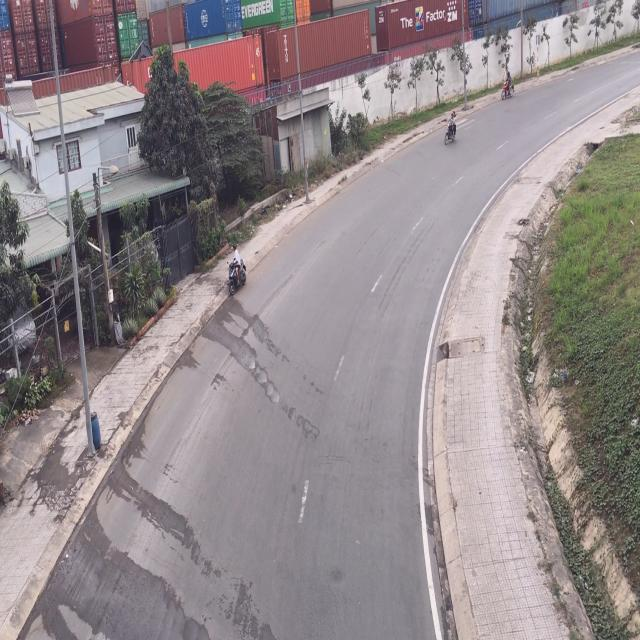motorbike: (226, 250, 247, 300), (444, 108, 459, 145), (501, 63, 515, 101)
